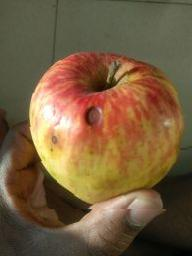Apple Semirotten: (27, 42, 192, 209)
